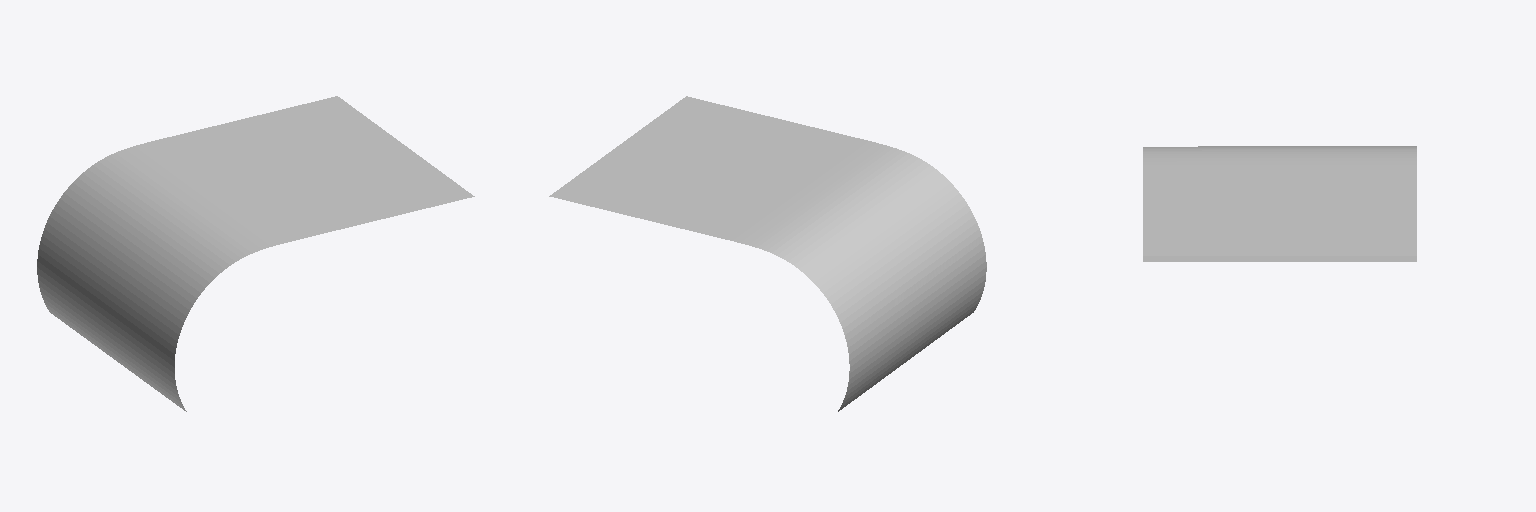
The model's file is CurvePaper_000050.obj.
The picture shows the model from 3 angles: view 1: azimuth 30°, elevation 25°; view 2: azimuth 150°, elevation 25°; view 3: azimuth 270°, elevation 25°; orthographic projection.
Visible parts, largest first — view 1: Plane; view 2: Plane; view 3: Plane.
Boxes of the visible parts, x1,y1,x2,y2 form: Plane: [37, 96, 474, 411]; Plane: [549, 96, 986, 411]; Plane: [1143, 146, 1416, 261].
Bounding box in the file's own units: 2.86 × 1.33 × 2.26.